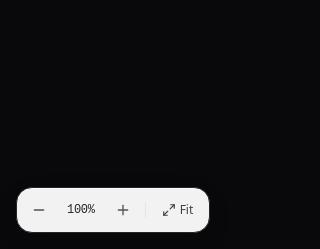
Test: ZoomControls Component (Bottom-Left Glass Dock) › opens presets menu on right-click on percentage button and selects preset
The image size is (320, 249).
Later steps or results of the test are not shown.
Step 1. Right-click the button with test id "zoom-percentage-btn" → coordinates (81, 210), box [59, 194, 103, 226]
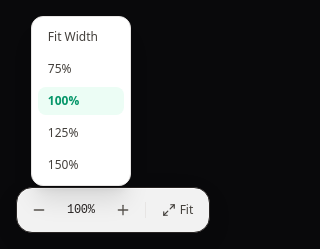
Now the element with test id "zoom-presets-menu" is shown, box [31, 16, 131, 186]
